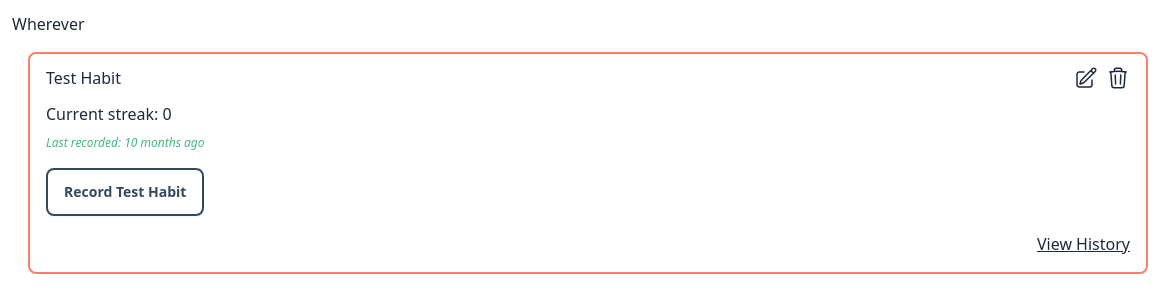
HabitItem › should go to the individual habit page when you click on the View History link
# WHEN the user clicks on the View History link
Click the link "View History" at (1084, 244), box left=1037, top=232, right=1130, bottom=256
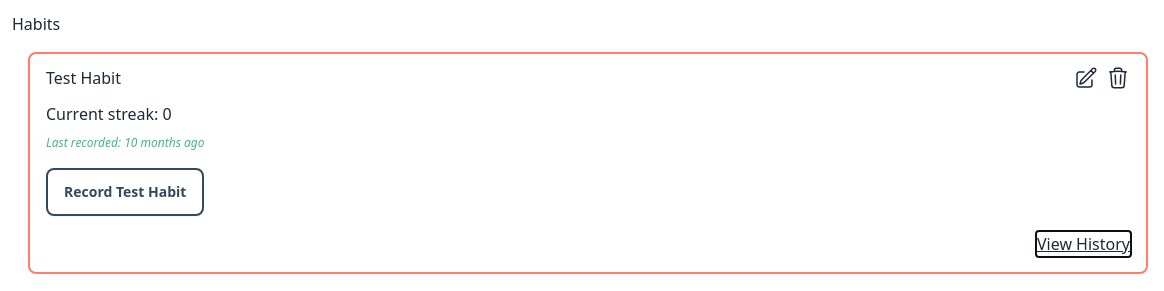
Expected: the text "Habits" is shown, left=12, top=13, right=60, bottom=35
